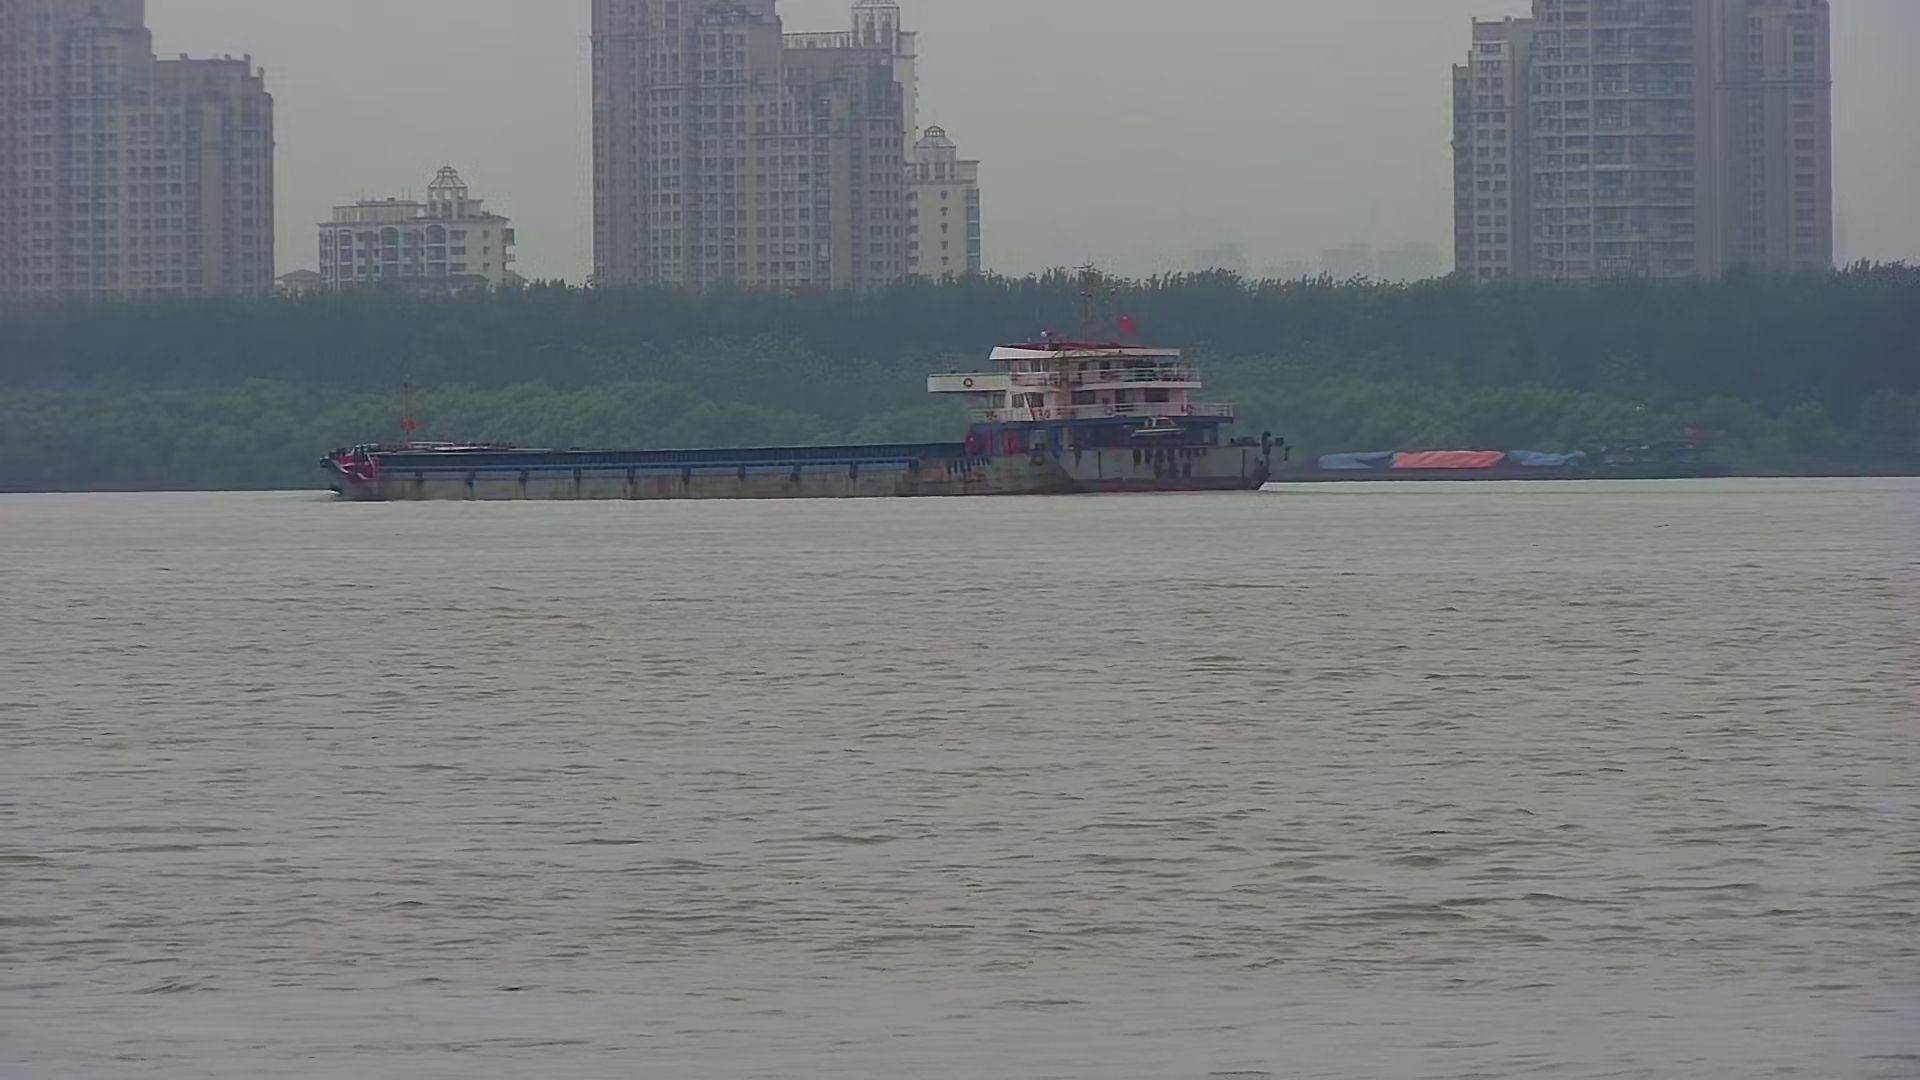ship: (316, 326, 1291, 495), (1273, 435, 1735, 481)
